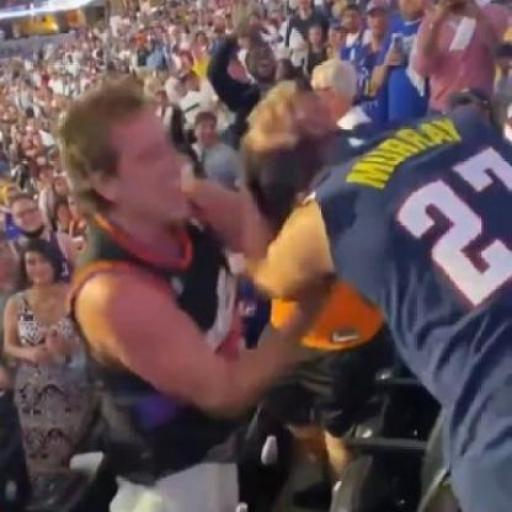Fighting: (60, 80, 512, 512)
